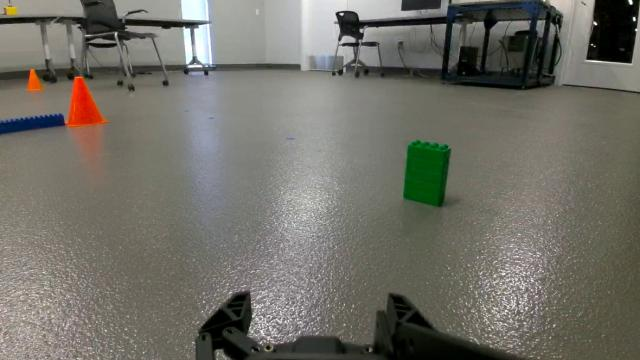lego: (392, 134, 464, 210)
